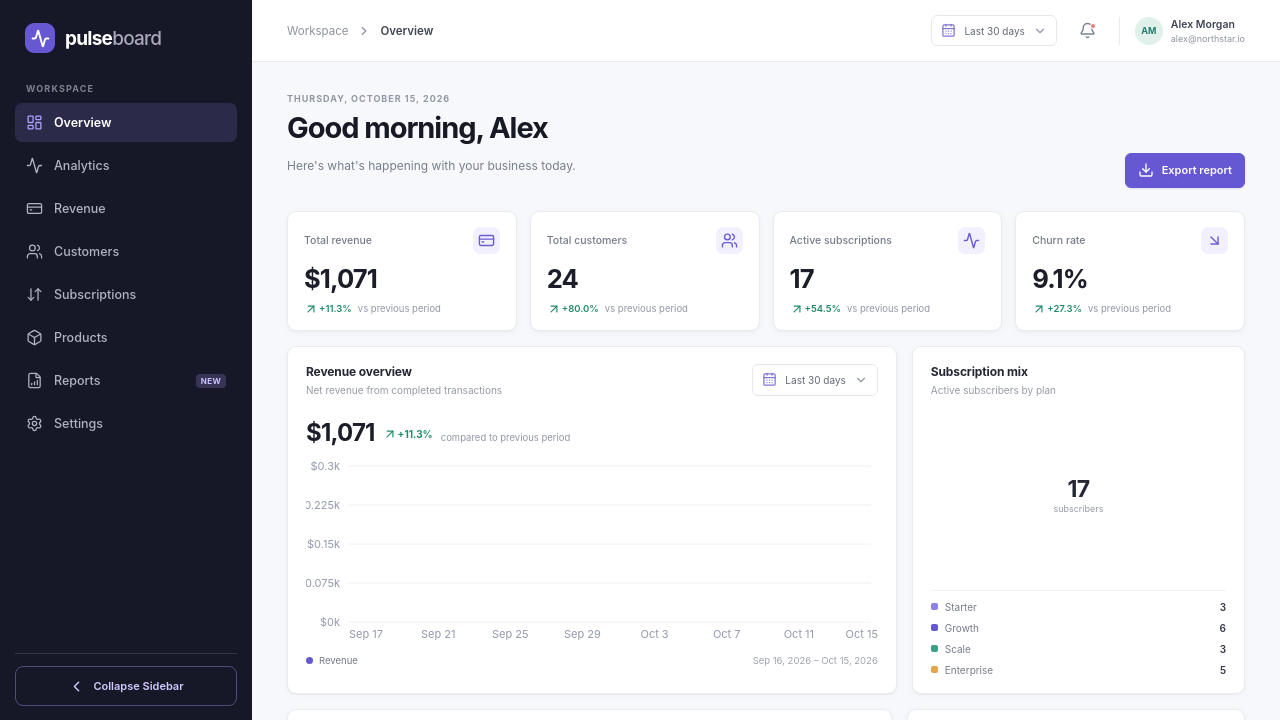
PulseBoard application › collapses and expands the desktop sidebar while keeping navigation accessible
Click the button "Collapse Sidebar" at (126,686), box 15,666 -> 237,706
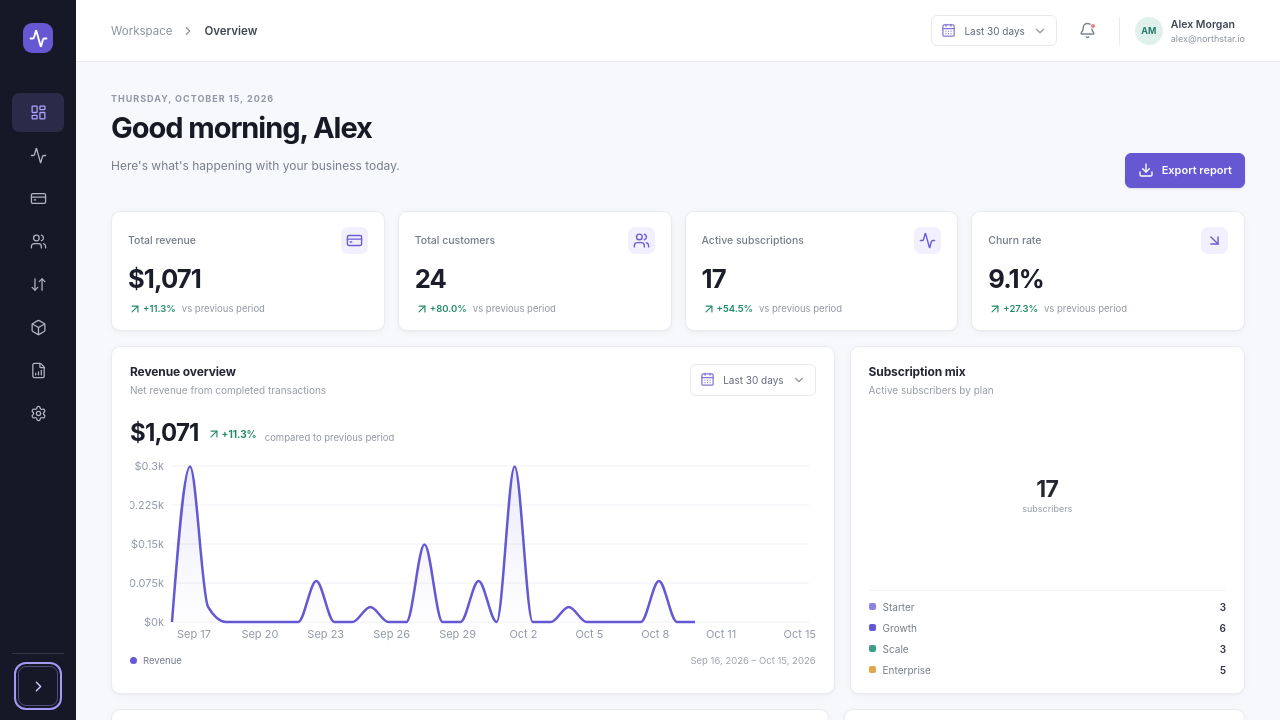
Expected: the link named "Overview" is shown, 12,93 -> 64,132
Expected: the button named "Expand sidebar" is collapsed
Click the button named "Expand sidebar" at (38,686), box 18,666 -> 58,706
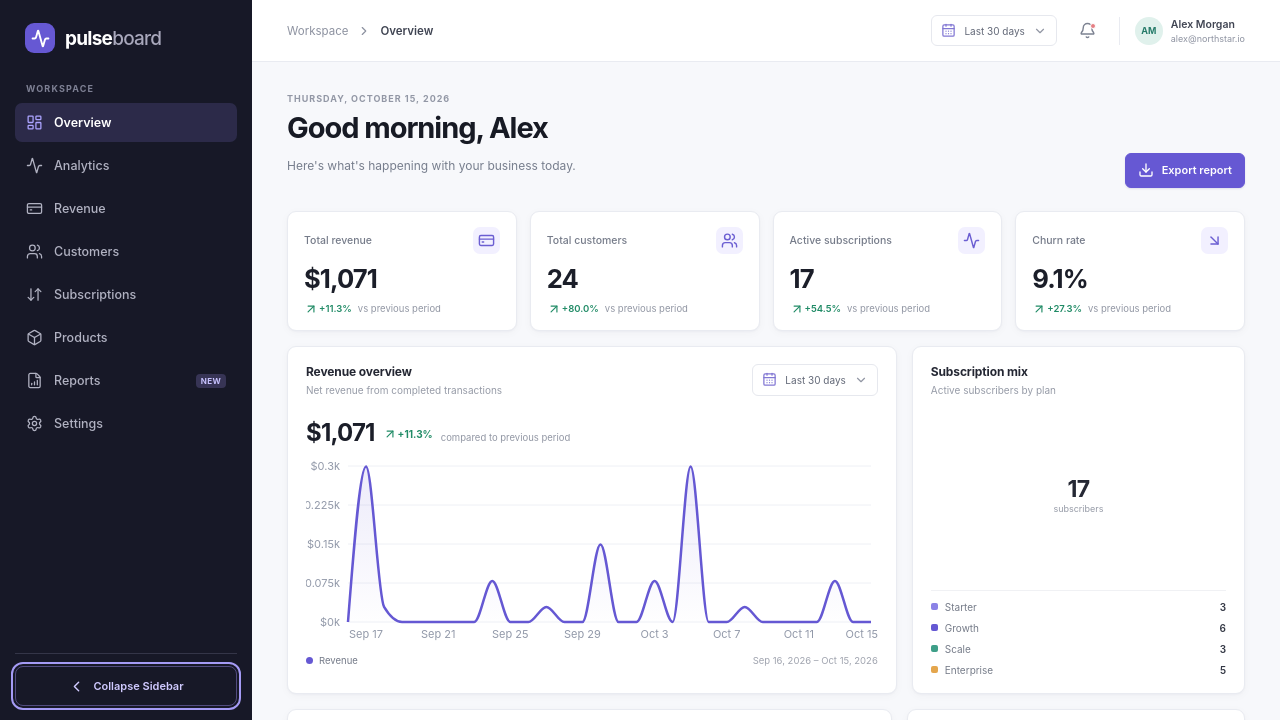
Expected: the button "Collapse Sidebar" is expanded, 15,666 -> 237,706
